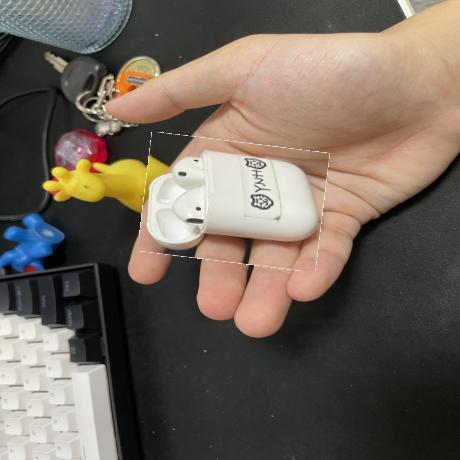airpod2: (141, 137, 326, 267)
